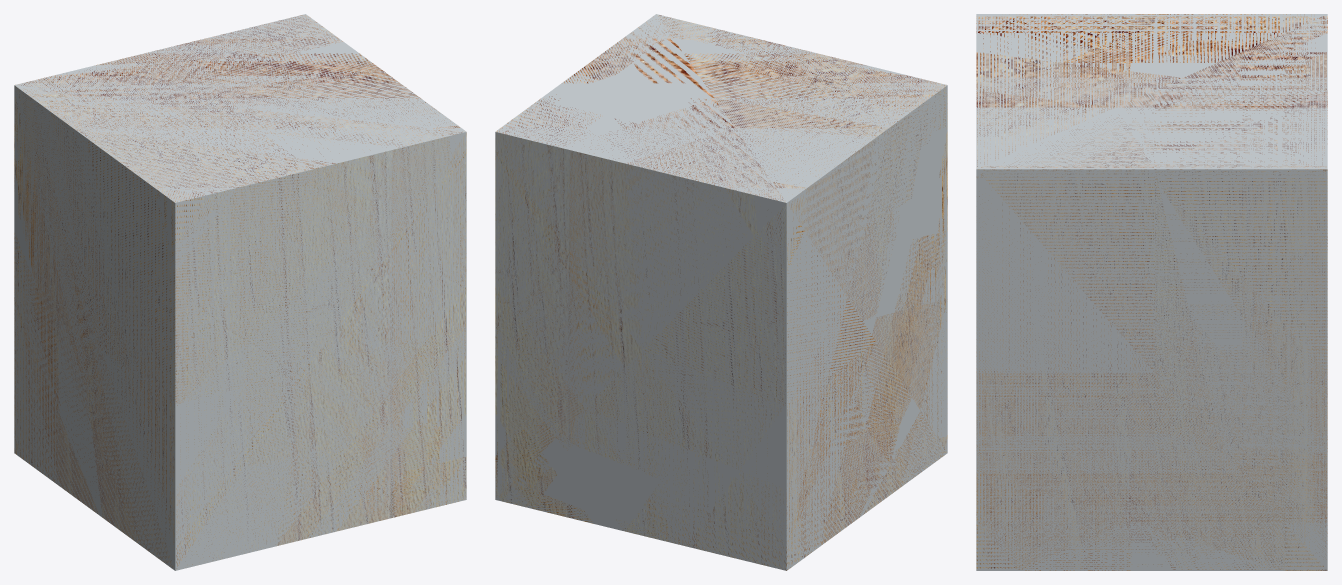
The model's file is sepetir.glb.
3 views of the same model, side by side, from view 1: azimuth 30°, elevation 25°; view 2: azimuth 150°, elevation 25°; view 3: azimuth 270°, elevation 25° (orthographic). The views are drawn at different scales.
Visible parts, largest first — view 1: BackSide, FrontSide; view 2: BackSide, FrontSide; view 3: BackSide, FrontSide.
Boxes of the visible parts, x1=… form: BackSide: x1=14, y1=14, x2=466, y2=570; FrontSide: x1=14, y1=15, x2=466, y2=569; BackSide: x1=495, y1=14, x2=947, y2=570; FrontSide: x1=495, y1=15, x2=947, y2=570; BackSide: x1=976, y1=14, x2=1327, y2=570; FrontSide: x1=976, y1=14, x2=1327, y2=570.
Size of the model in its own units: 1.48 by 1.79 by 1.42.
4 materials, 3 textured.
